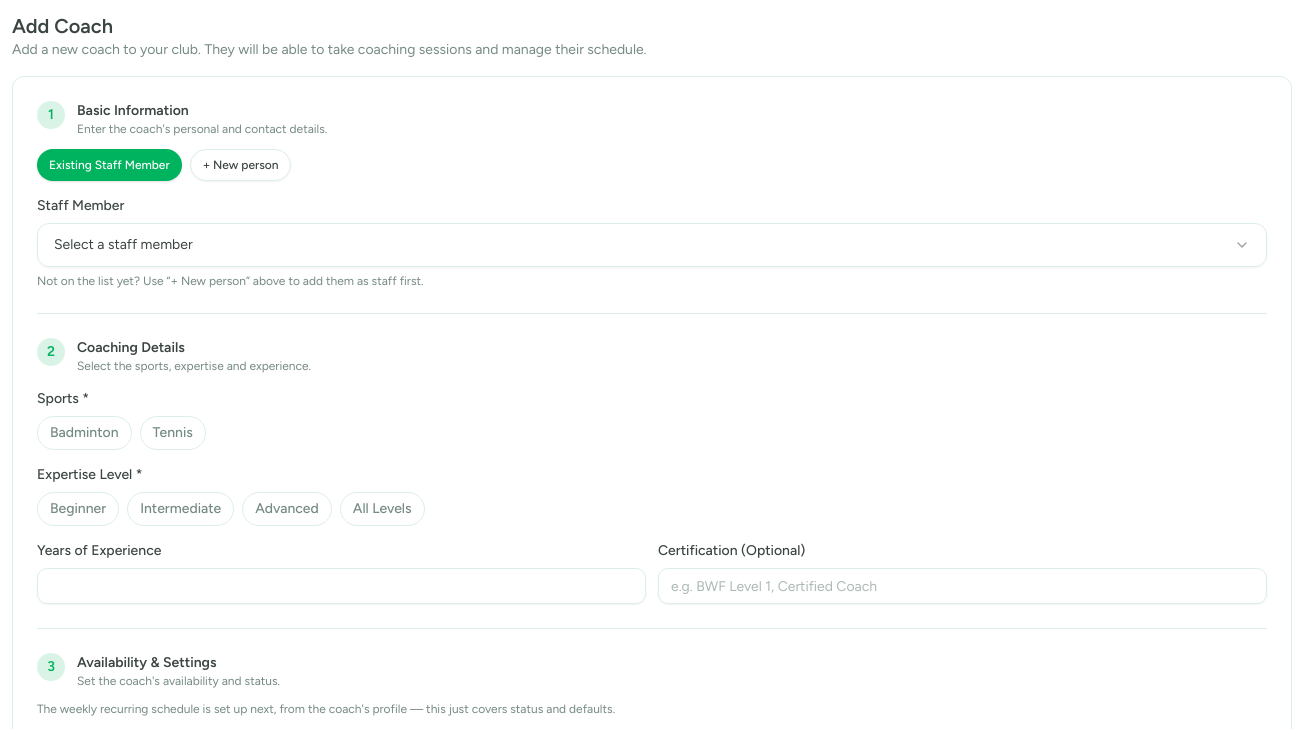
Test: AddCoachPage › strips non-digits and caps the phone field at 10 characters
Click the button "+ New person" at (240, 165), box x1=190 y1=149 x2=291 y2=181
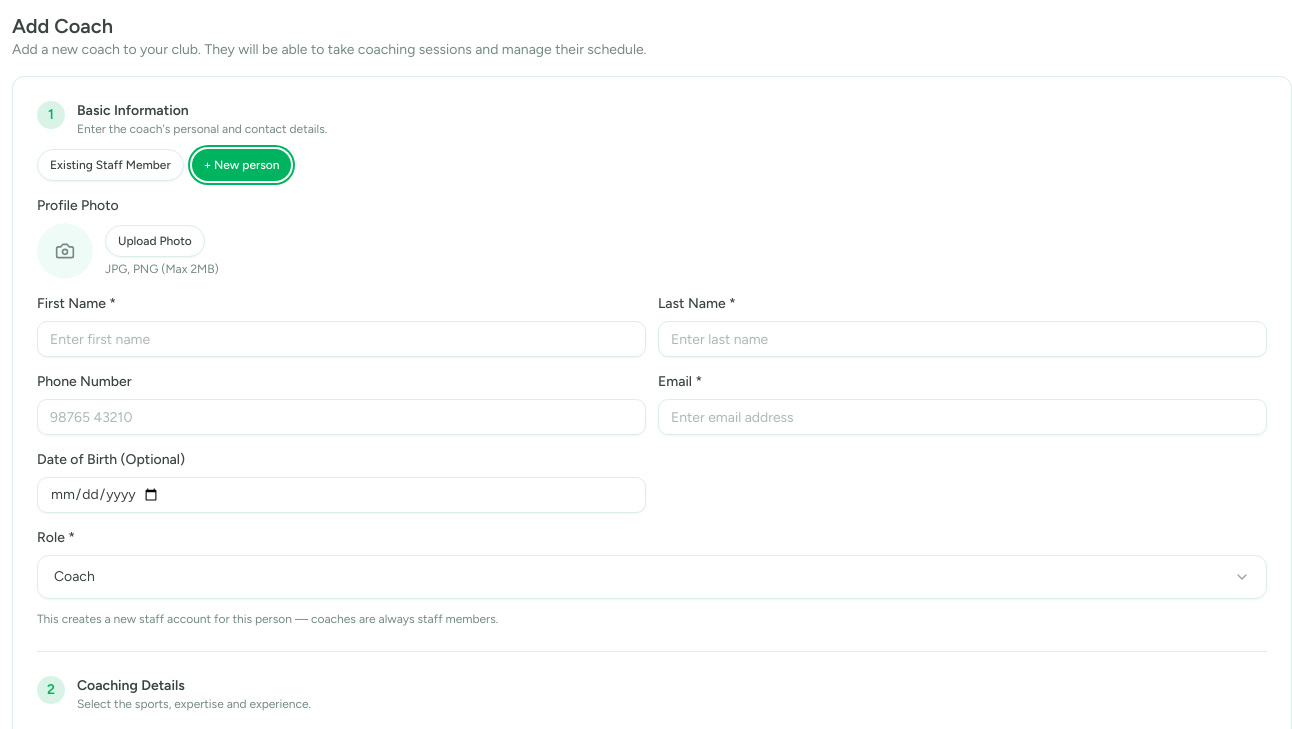
Type "+91-98765-432109999" into the field labelled "Phone Number" at (342, 417), box x1=37 y1=399 x2=646 y2=435
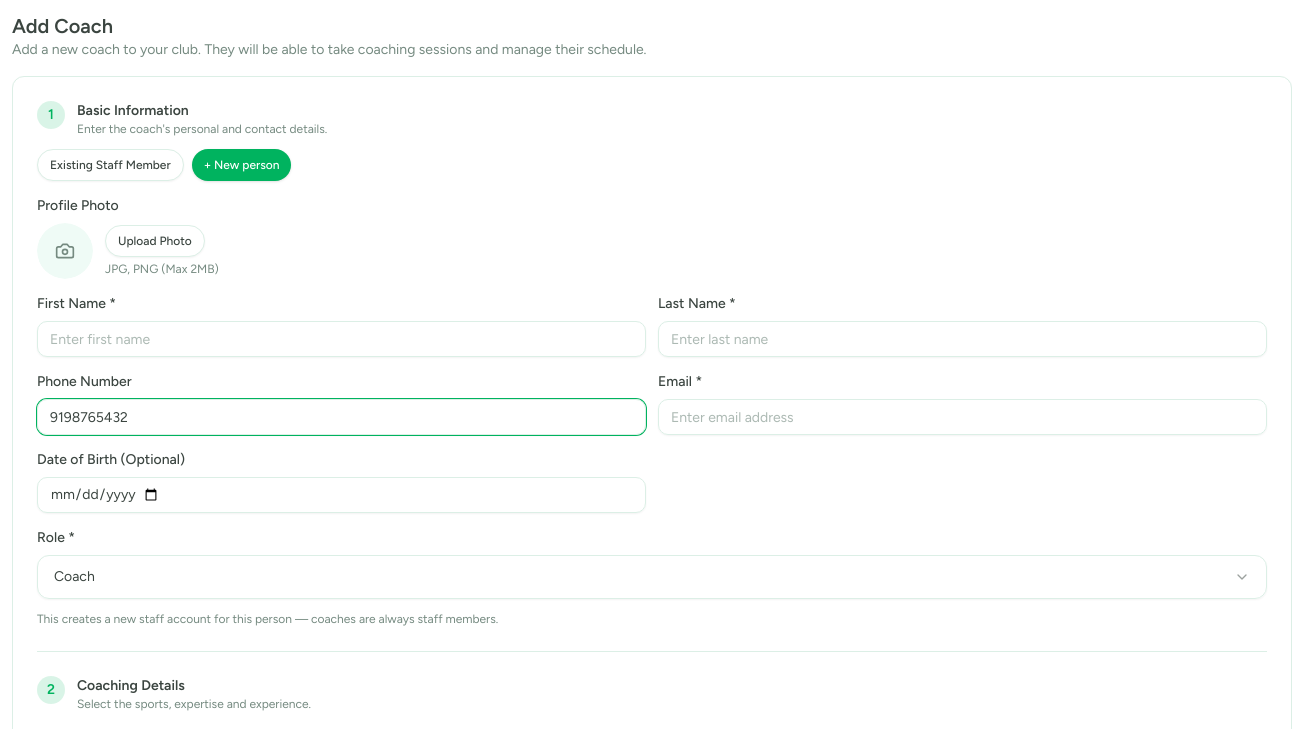
Expected: the field labelled "Phone Number" holds "9198765432", x1=37 y1=399 x2=646 y2=435
